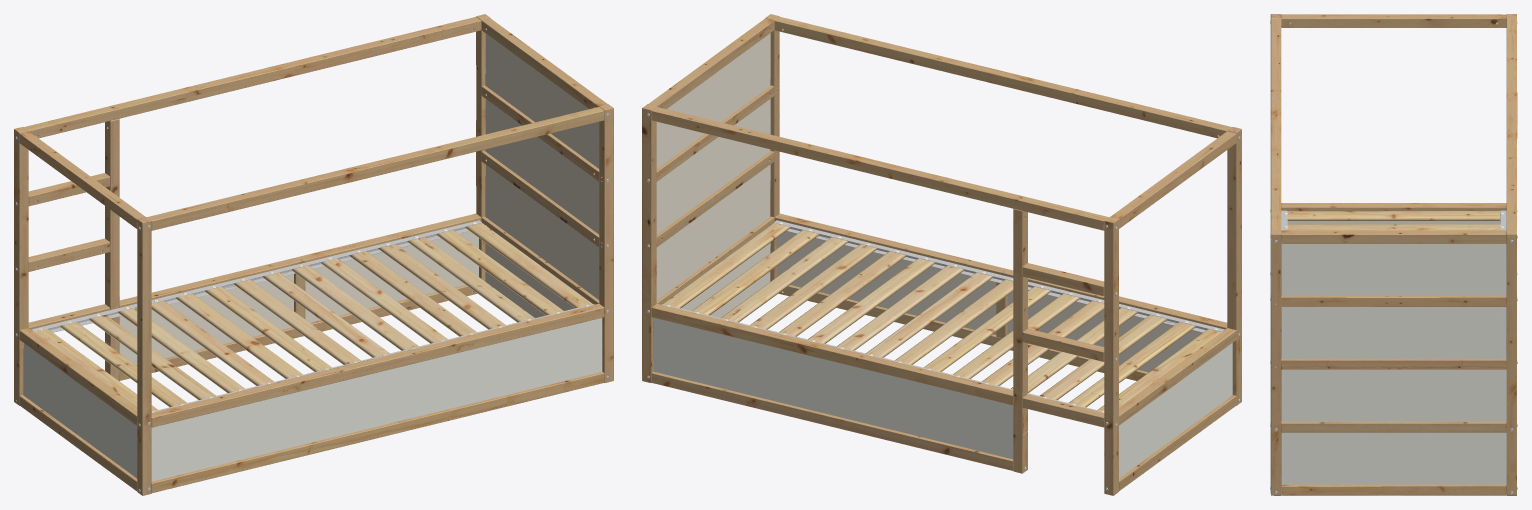
3 views of the same model, side by side, from view 1: azimuth 30°, elevation 25°; view 2: azimuth 150°, elevation 25°; view 3: azimuth 270°, elevation 25° (orthographic). The views are drawn at different scales.
Visible parts, largest first — view 1: model; view 2: model; view 3: model.
Part boxes in pixels (<box>): model: <box>14,14,613,495</box>; model: <box>642,14,1241,495</box>; model: <box>1270,14,1517,495</box>.
Bounding box in the file's own units: 2.09 × 1.15 × 0.9893.
1 material, 1 textured.
